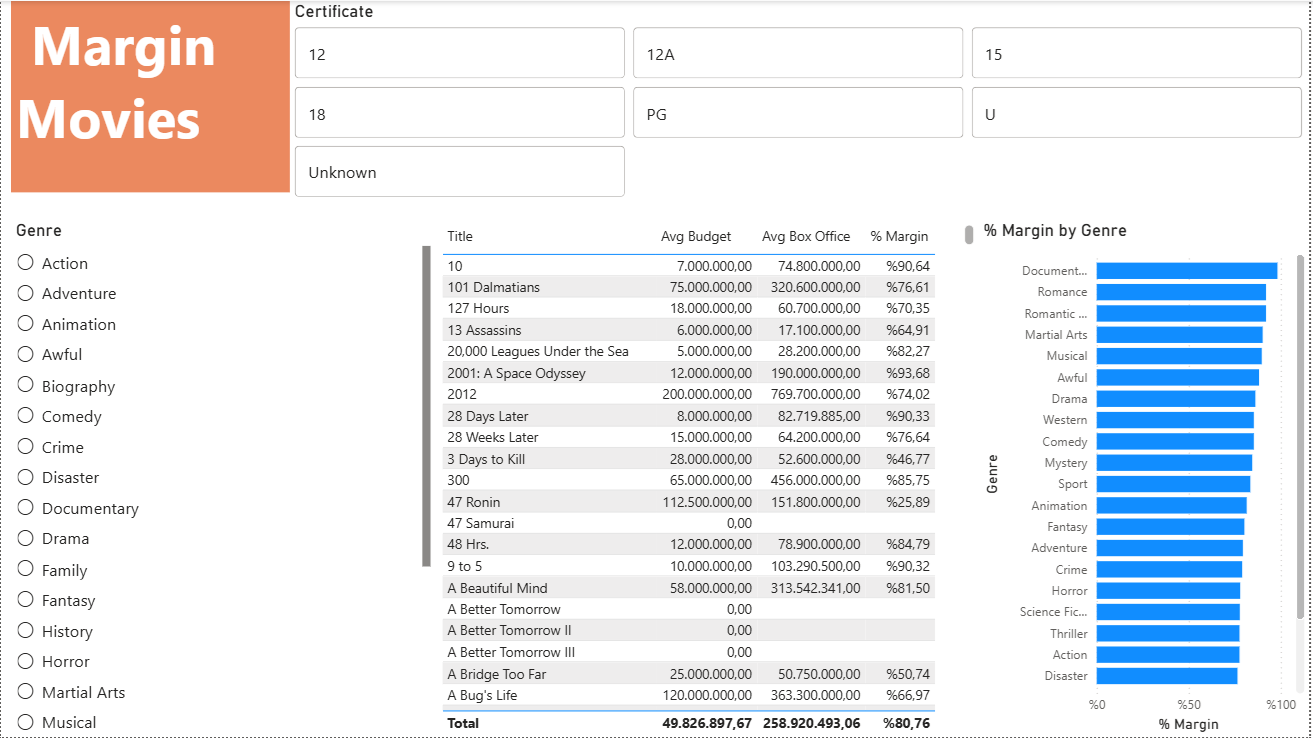

Layout of this report page (visuals, bound fields, positions):
{"tool":"powerbi","page":{"name":"Page 1","canvas":[1280,720],"ordinal":0},"visuals":[{"type":"listSlicer","fields":{"Values":["Genre.Genre"]},"box":[9.6,214.1,415.8,506.3],"z":1000},{"type":"tableEx","fields":{"Values":["Films.Title","Certificate.Avg Budget","Certificate.Avg Box Office","Certificate.% Margin"]},"box":[425.4,214.1,531,506.3],"z":3000},{"type":"clusteredBarChart","fields":{"Category":["Genre.Genre"],"Y":["Certificate.% Margin"]},"box":[956.4,214.1,323.8,506.3],"z":3001},{"type":"advancedSlicerVisual","fields":{"Values":["Certificate.Certificate"]},"box":[282.5,0,997.8,196.9],"z":3002},{"type":"textbox","box":[9.8,0,272.7,187.1],"z":3003}]}

Visuals, with their boxes in screenshot pixels (x1, y1, x2, y2), scaled from the page's 1280x720 canvas onto the 1313x738 screenshot:
listSlicer - Genre.Genre: 10/219/436/737
tableEx - Films.Title x Certificate.Avg Budget: 436/219/981/737
clusteredBarChart - Genre.Genre x Certificate.% Margin: 981/219/1312/737
advancedSlicerVisual - Certificate.Certificate: 290/0/1312/202
textbox: 10/0/290/192
